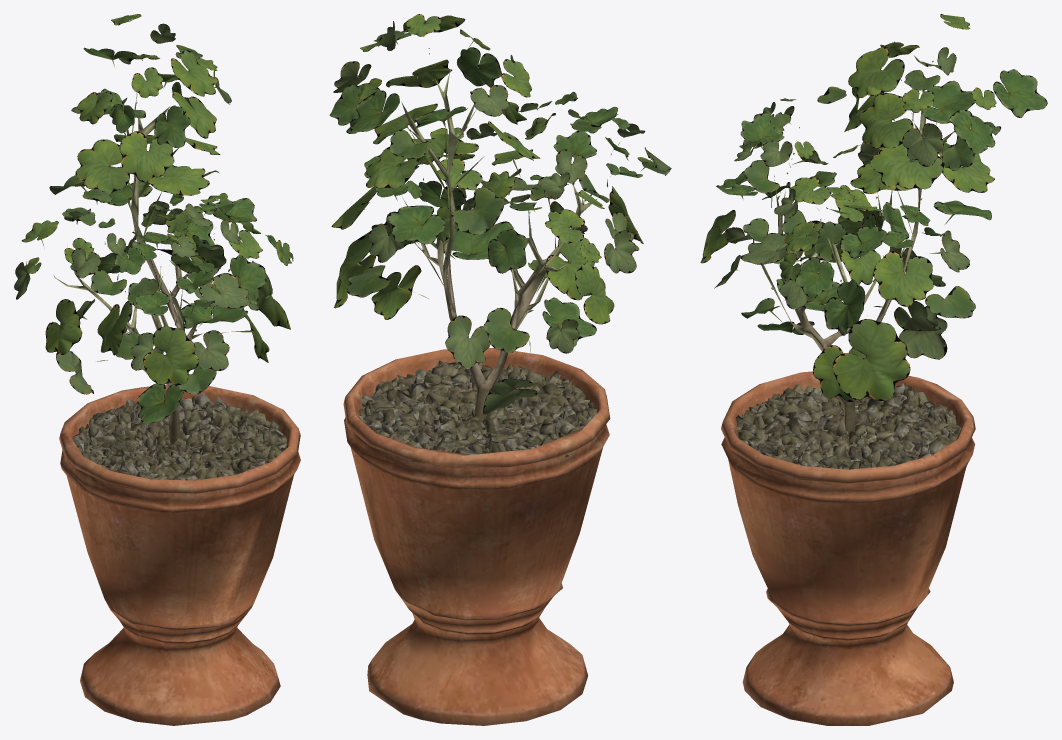
File: potted_plant_01.7fc83ba0.glb
3 renders of one model, left to right at view 1: azimuth 30°, elevation 25°; view 2: azimuth 150°, elevation 25°; view 3: azimuth 270°, elevation 25°, orthographic. The views are drawn at different scales.
Parts seen in each view (by area): view 1: potted_plant_01_pot, potted_plant_01_leaves, potted_plant_01_pebbles, potted_plant_01_stem; view 2: potted_plant_01_pot, potted_plant_01_leaves, potted_plant_01_pebbles, potted_plant_01_stem; view 3: potted_plant_01_pot, potted_plant_01_leaves, potted_plant_01_pebbles, potted_plant_01_stem.
Boxes of the visible parts, x1,y1,x2,y2 form: potted_plant_01_pot: (59,385,300,725); potted_plant_01_leaves: (14,14,293,424); potted_plant_01_pebbles: (68,392,286,492); potted_plant_01_stem: (55,92,213,444); potted_plant_01_pot: (343,348,610,725); potted_plant_01_leaves: (329,14,671,414); potted_plant_01_pebbles: (359,360,596,463); potted_plant_01_stem: (401,72,596,422); potted_plant_01_pot: (721,371,975,725); potted_plant_01_leaves: (700,14,1047,401); potted_plant_01_pebbles: (736,383,961,469); potted_plant_01_stem: (753,90,954,434).
Bounding box in the file's own units: 0.5874 × 1.34 × 0.6336.
Materials: 2 (2 with a texture image).
